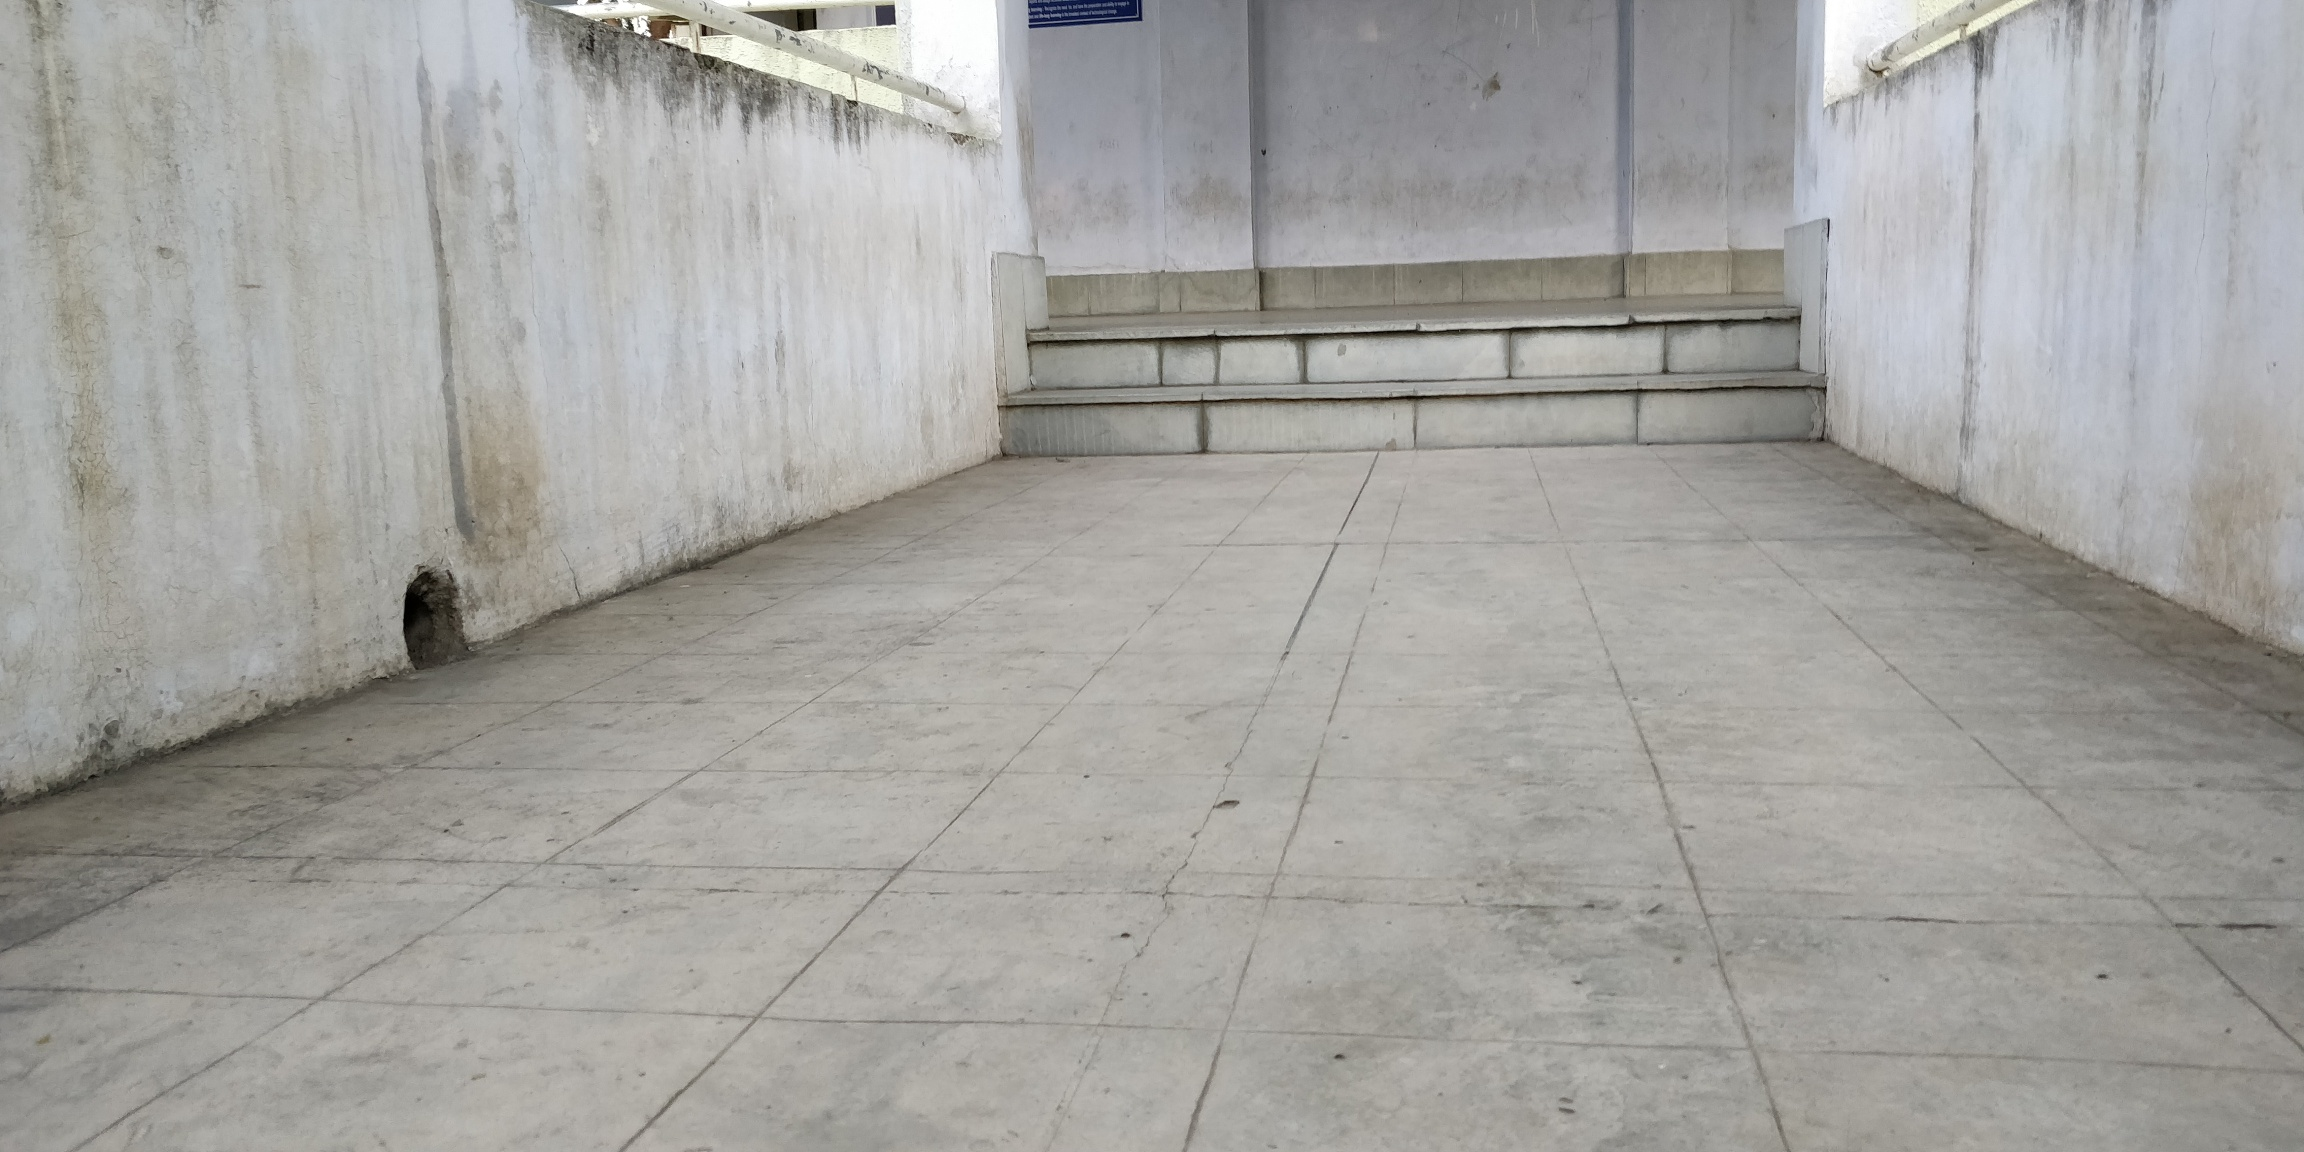stairs_up: (989, 328, 1846, 461)
